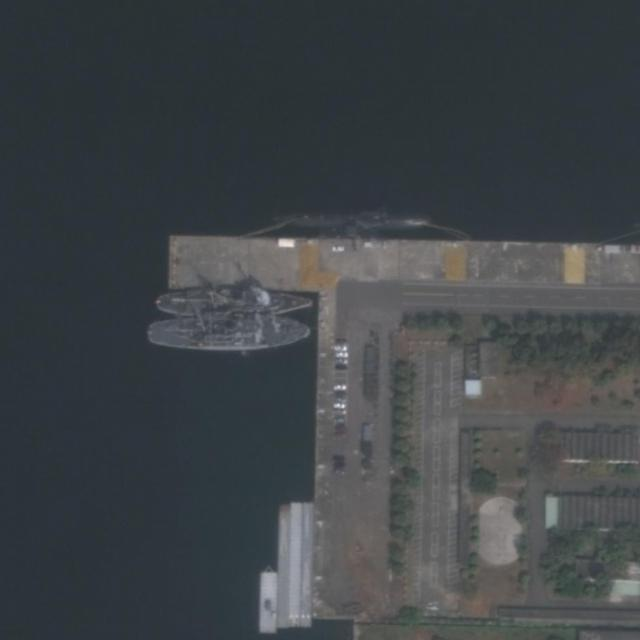Other Warship: (148, 319, 312, 350), (153, 290, 312, 317)
Submarine: (269, 211, 434, 231)
